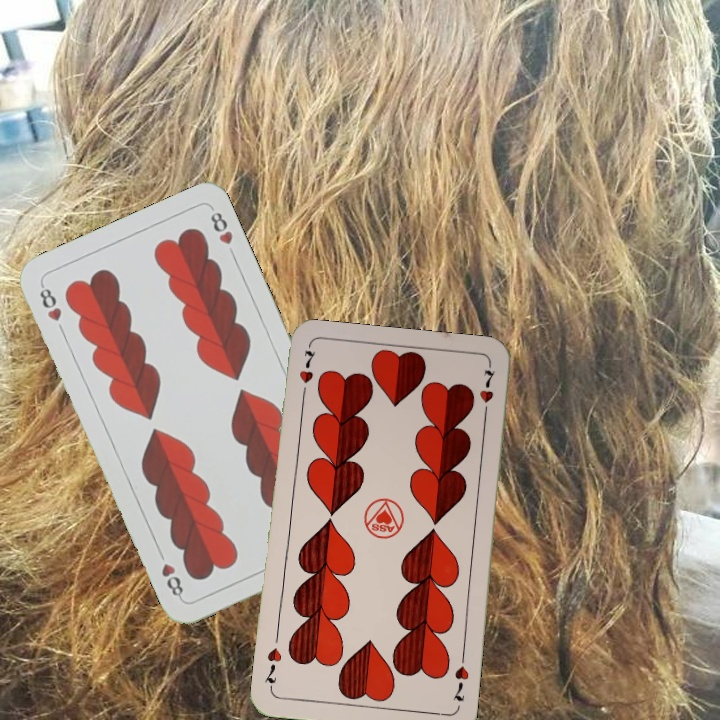H7: (295, 344, 317, 403), (448, 650, 472, 704)
H8: (35, 280, 64, 324)
